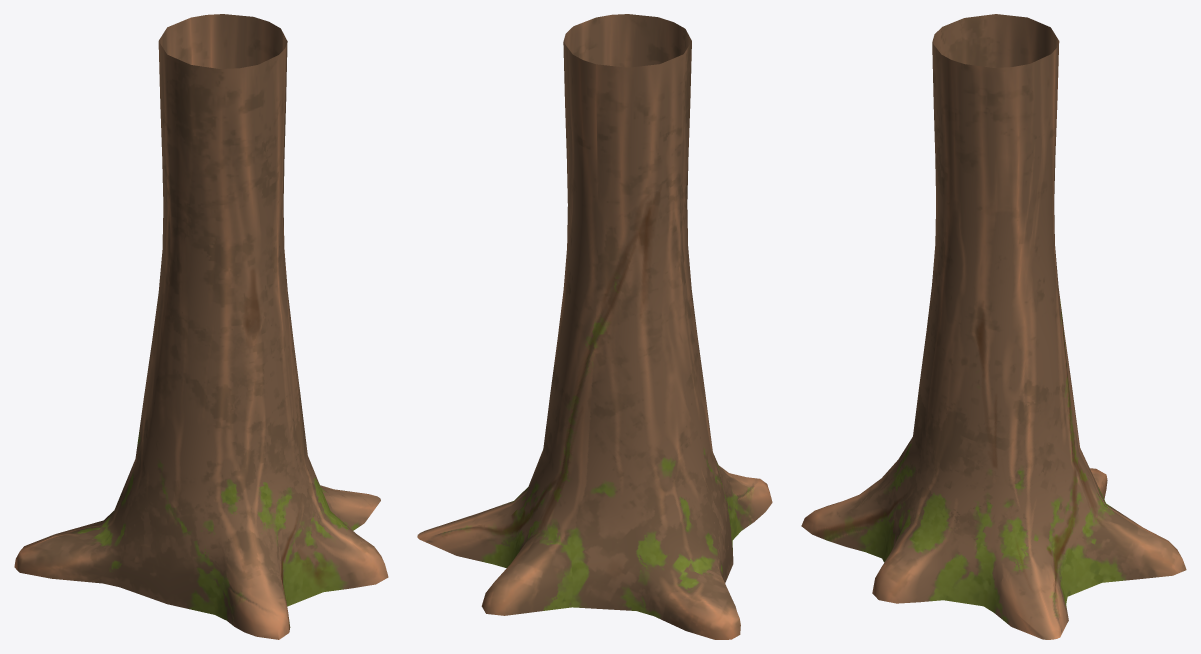
Rendered from Bold_Tree03.fbx.
3 renders of one model, left to right at view 1: azimuth 30°, elevation 25°; view 2: azimuth 150°, elevation 25°; view 3: azimuth 270°, elevation 25°, orthographic.
Parts seen in each view (by area): view 1: Bold_Tree03_L; view 2: Bold_Tree03_L; view 3: Bold_Tree03_L.
Part boxes in pixels (x1,y1,x2,y2): Bold_Tree03_L: [14, 14, 388, 639]; Bold_Tree03_L: [417, 14, 772, 639]; Bold_Tree03_L: [801, 14, 1186, 639].
Bounding box in the file's own units: 3486 × 5141 × 3472.
1 material, 1 textured.
